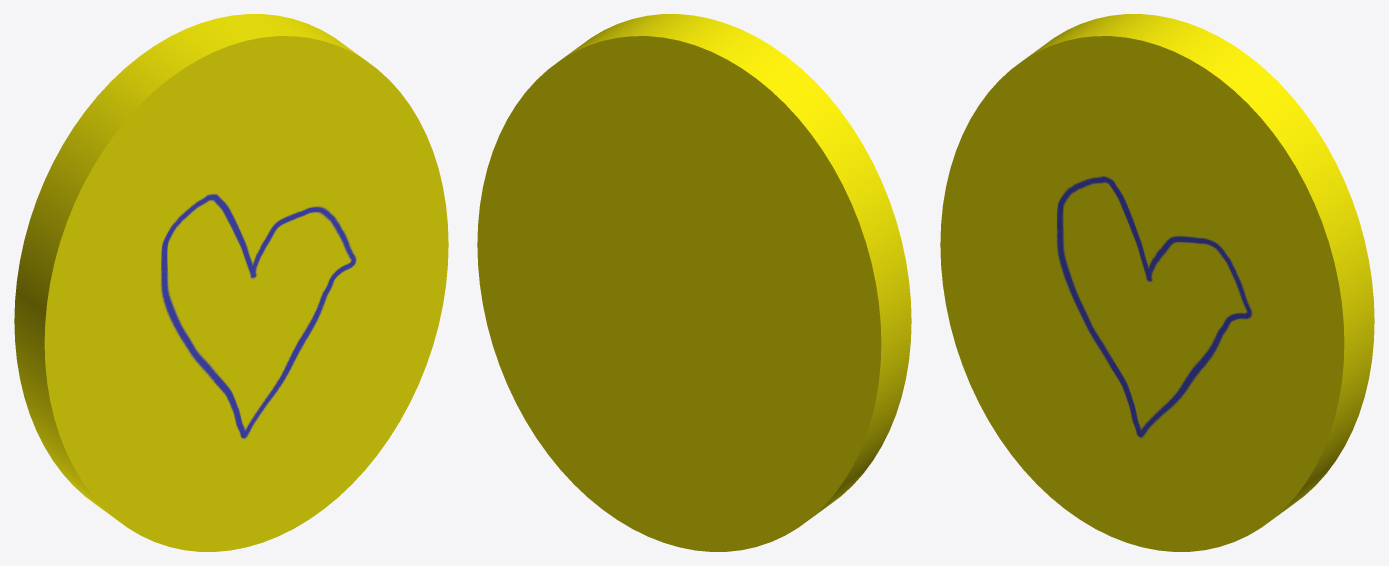
The model's file is Coin.fbx.
3 renders of one model, left to right at view 1: azimuth 30°, elevation 25°; view 2: azimuth 150°, elevation 25°; view 3: azimuth 330°, elevation 25°, orthographic.
Visible parts, largest first — view 1: node_id5; view 2: node_id5; view 3: node_id5.
Part boxes in pixels (x1,y1,x2,y2): node_id5: [14, 14, 448, 551]; node_id5: [477, 14, 911, 551]; node_id5: [940, 14, 1374, 551].
Bounding box in the file's own units: 0.4272 × 0.512 × 0.0553.
Materials: 1 (1 with a texture image).
